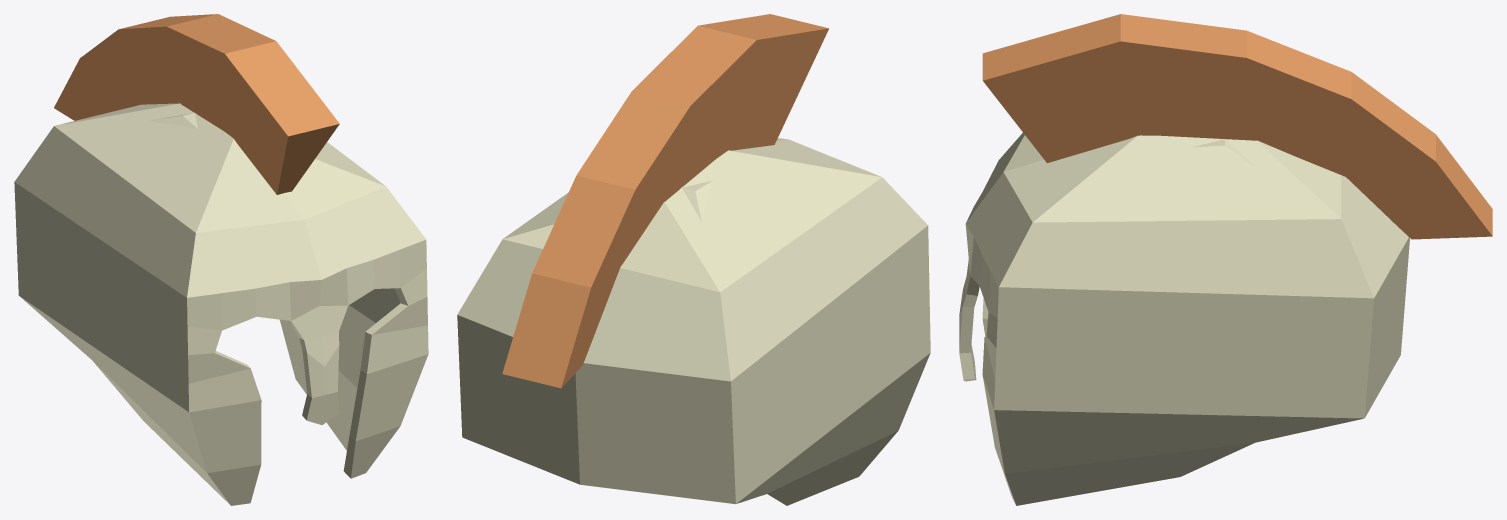
The model's file is HelmetLevel4.fbx.
3 views of the same model, side by side, from view 1: azimuth 30°, elevation 25°; view 2: azimuth 150°, elevation 25°; view 3: azimuth 270°, elevation 25° (orthographic). The views are drawn at different scales.
Visible parts, largest first — view 1: Soldier.013; view 2: Soldier.013; view 3: Soldier.013.
Boxes of the visible parts, x1,y1,x2,y2 form: Soldier.013: (14, 14, 428, 505); Soldier.013: (457, 14, 930, 505); Soldier.013: (959, 14, 1492, 505).
Size of the model in its own units: 26.06 by 42.33 by 46.27.
